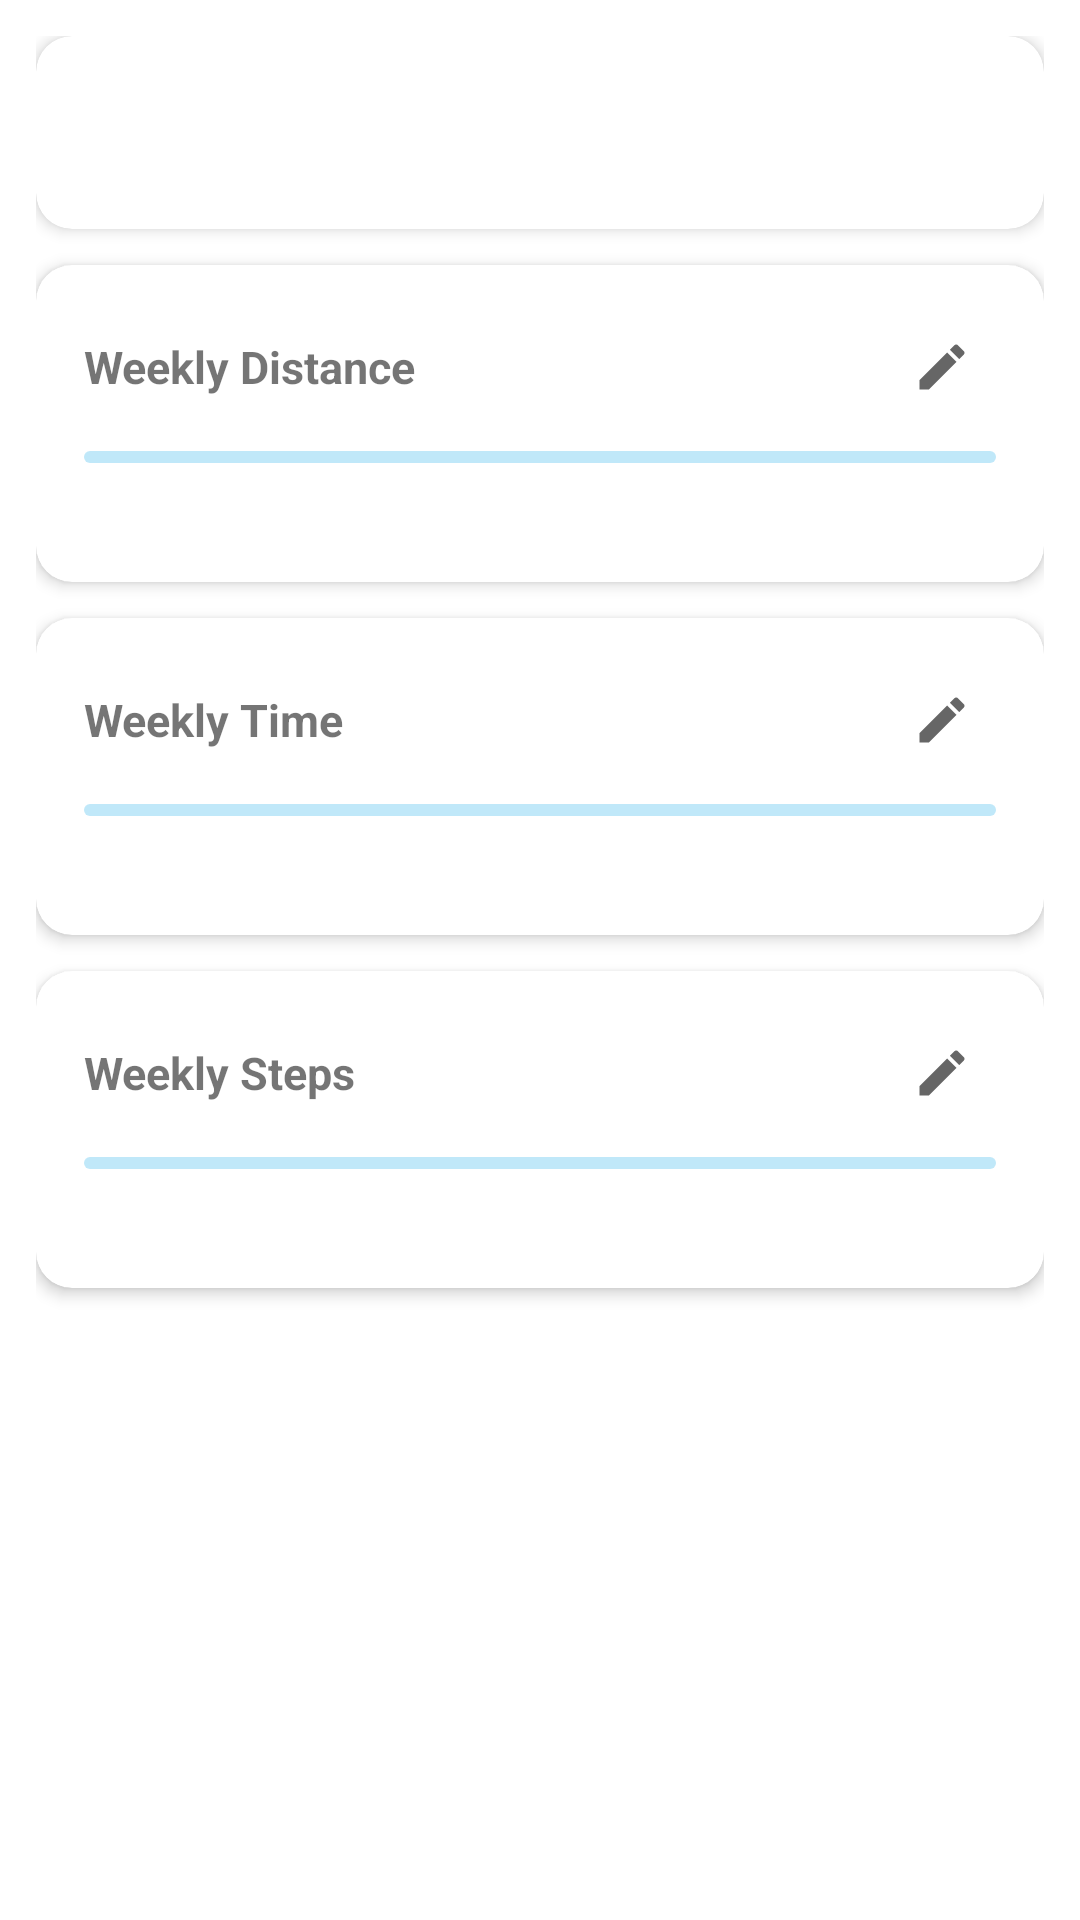

Where to tap for icons on this 1080x1920 app screen, as (x=x, y=y):
Edit goal: (x=942, y=367), (x=942, y=720), (x=942, y=1073)
